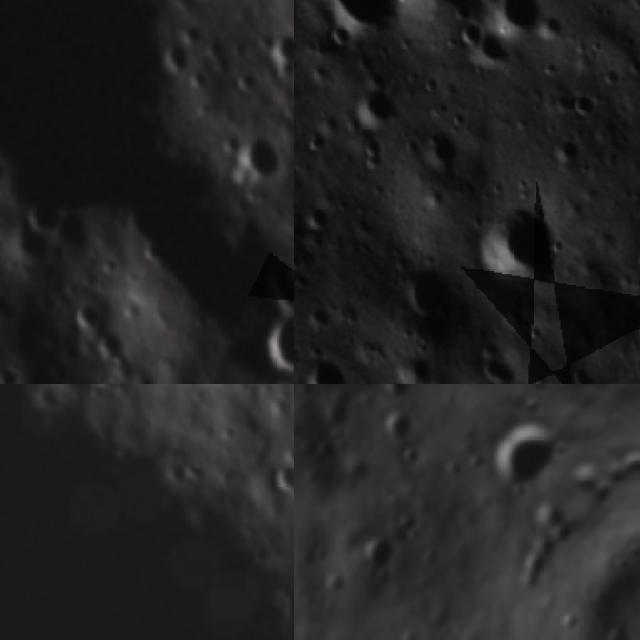crater: (461, 191, 564, 297), (477, 429, 554, 506), (299, 0, 405, 43), (351, 514, 417, 580), (310, 384, 376, 440), (387, 496, 441, 550), (374, 397, 424, 448), (528, 488, 575, 535), (481, 0, 550, 31), (512, 536, 558, 582), (260, 315, 294, 375), (317, 561, 361, 605), (295, 424, 337, 468), (268, 24, 294, 95), (392, 432, 434, 475), (256, 263, 294, 309), (294, 352, 348, 384), (554, 600, 594, 640), (376, 384, 427, 410), (354, 133, 386, 172), (248, 135, 275, 181), (597, 613, 640, 640), (453, 13, 485, 46), (62, 304, 99, 332), (565, 88, 593, 122), (270, 460, 294, 497), (30, 201, 59, 229), (163, 45, 186, 77), (94, 337, 118, 358), (0, 363, 16, 384), (618, 625, 640, 640), (310, 632, 336, 640)
